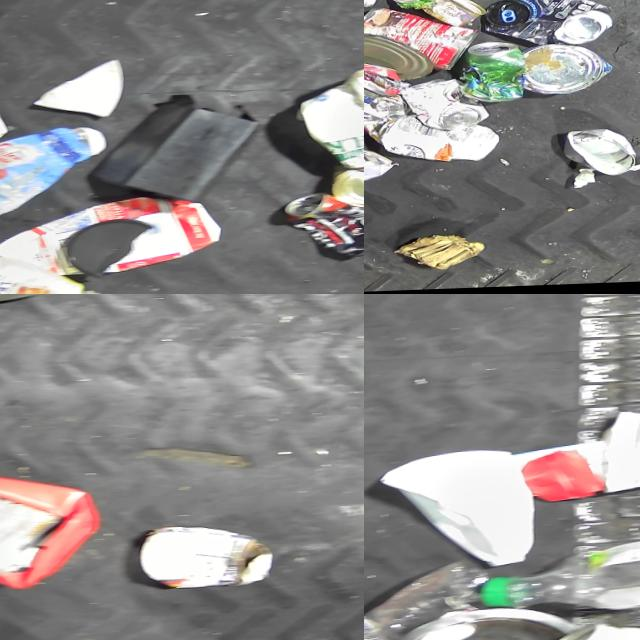can: (129, 521, 291, 589), (364, 5, 482, 74), (487, 0, 618, 50), (283, 196, 364, 265), (403, 77, 496, 131), (527, 44, 619, 98), (463, 40, 531, 102), (364, 29, 437, 83), (568, 128, 640, 178), (317, 169, 364, 212), (425, 0, 489, 28), (364, 143, 400, 182)
milk_jug: (372, 446, 551, 569), (288, 63, 364, 182)
non_white_jug: (0, 460, 118, 599)
plastic_bottle: (364, 562, 504, 640)
